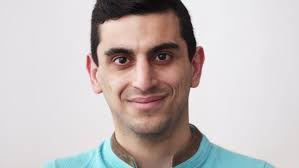middle_eastern_male: (92, 5, 203, 132)
